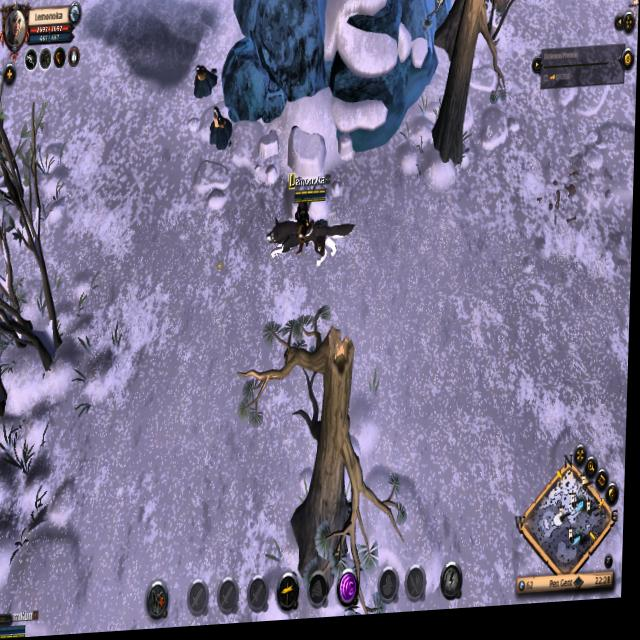ore tier 2: (209, 106, 235, 159), (193, 61, 219, 107)
